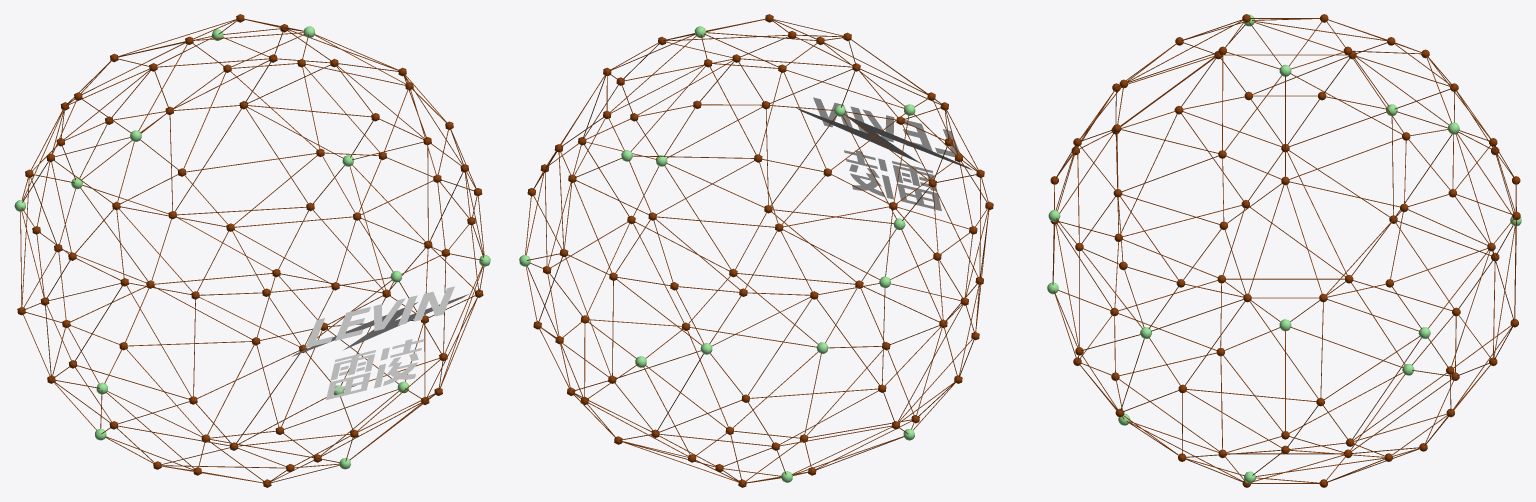
The model's file is ball.obj.
3 renders of one model, left to right at view 1: azimuth 30°, elevation 25°; view 2: azimuth 150°, elevation 25°; view 3: azimuth 270°, elevation 25°, orthographic.
Visible parts, largest first — view 1: GeoSphere001, Shape1, GeoSphere002, object 4; view 2: GeoSphere001, Shape1, GeoSphere002, object 4; view 3: GeoSphere001, GeoSphere002.
Boxes of the visible parts, x1,y1,x2,y2 form: GeoSphere001: (17, 14, 484, 487); Shape1: (305, 286, 454, 399); GeoSphere002: (14, 26, 490, 469); object 4: (292, 294, 468, 356); GeoSphere001: (525, 14, 993, 487); Shape1: (813, 97, 959, 210); GeoSphere002: (519, 26, 915, 482); object 4: (796, 108, 972, 170); GeoSphere001: (1050, 14, 1520, 487); GeoSphere002: (1047, 14, 1521, 483).
Size of the model in its own units: 391 by 387 by 406.
